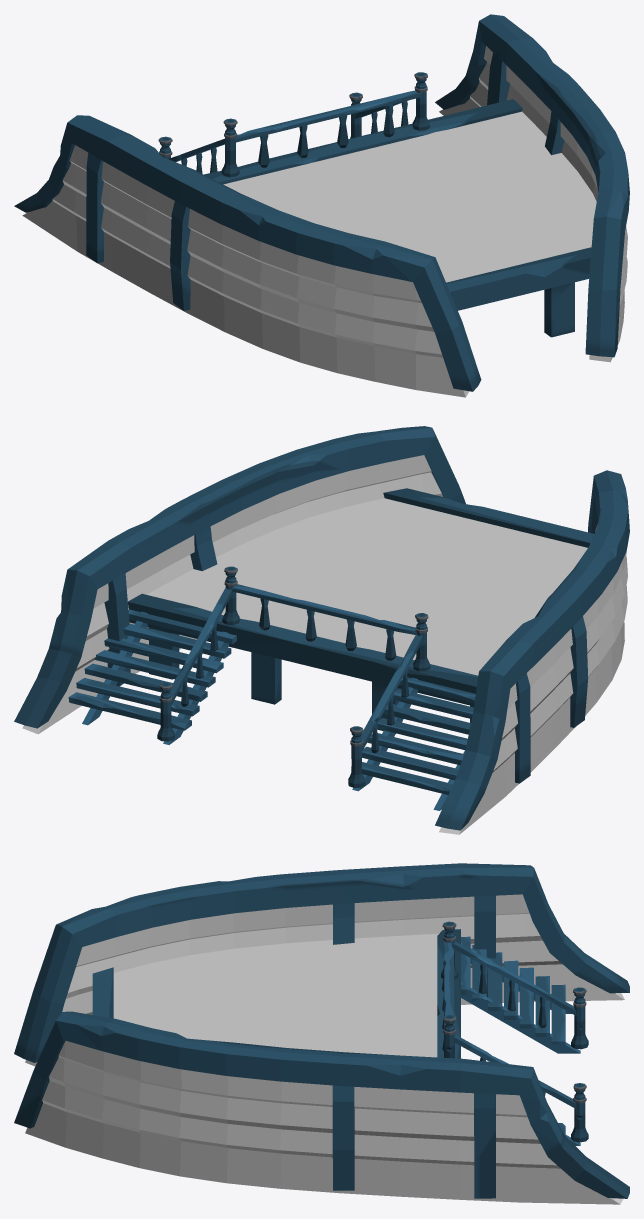
Rendered from SM_Veh_Ship_L_Front_01.fbx.
The picture shows the model from 3 angles, top to bottom: view 1: azimuth 30°, elevation 25°; view 2: azimuth 150°, elevation 25°; view 3: azimuth 270°, elevation 25°; orthographic projection.
Parts seen in each view (by area): view 1: SM_Veh_Ship_L_Front_01; view 2: SM_Veh_Ship_L_Front_01; view 3: SM_Veh_Ship_L_Front_01.
Part boxes in pixels (x1,y1,x2,y2): SM_Veh_Ship_L_Front_01: (14, 14, 629, 397); SM_Veh_Ship_L_Front_01: (14, 426, 629, 834); SM_Veh_Ship_L_Front_01: (14, 863, 629, 1204).
Bounding box in the file's own units: 1018 × 289 × 1215.
